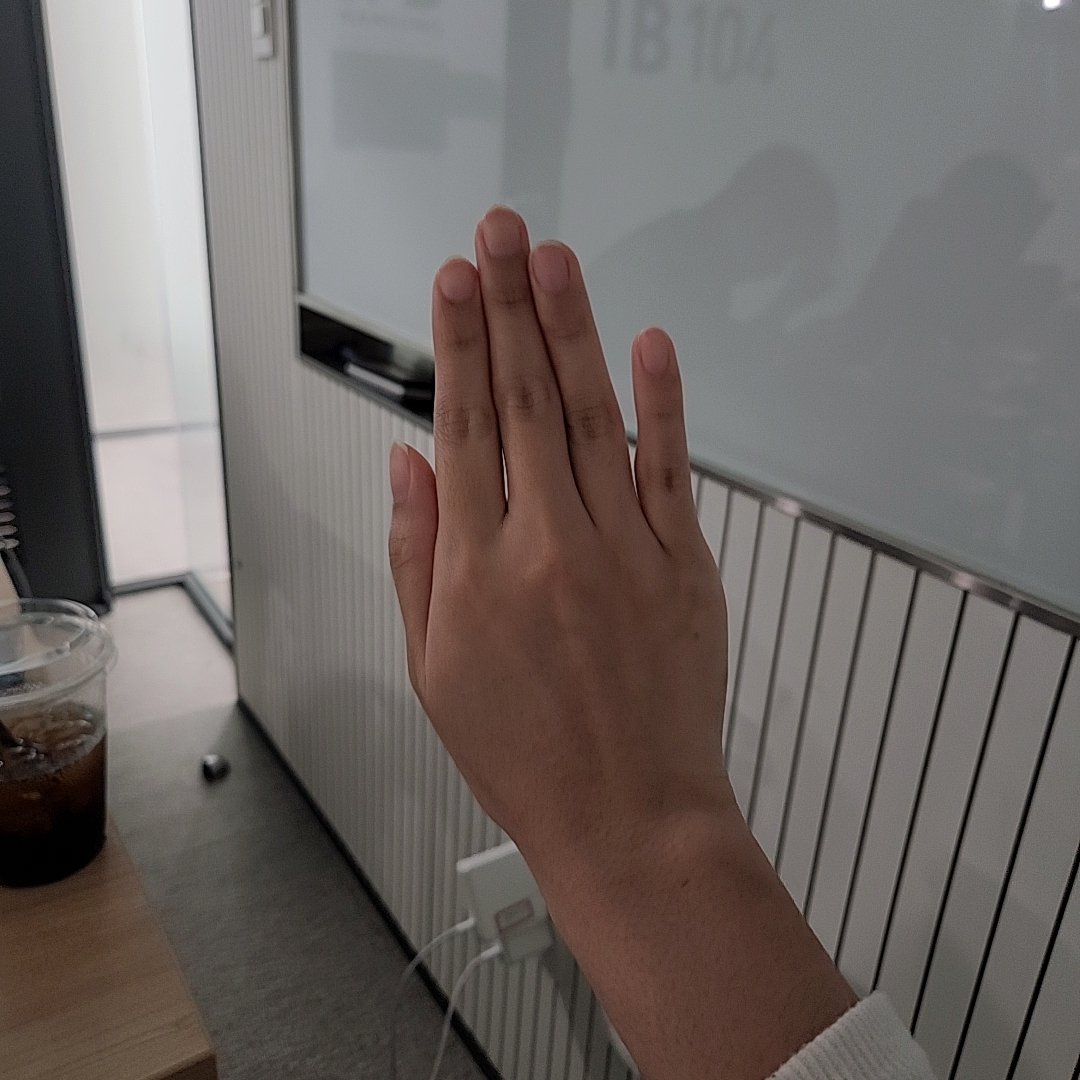me: (386, 202, 731, 851)
